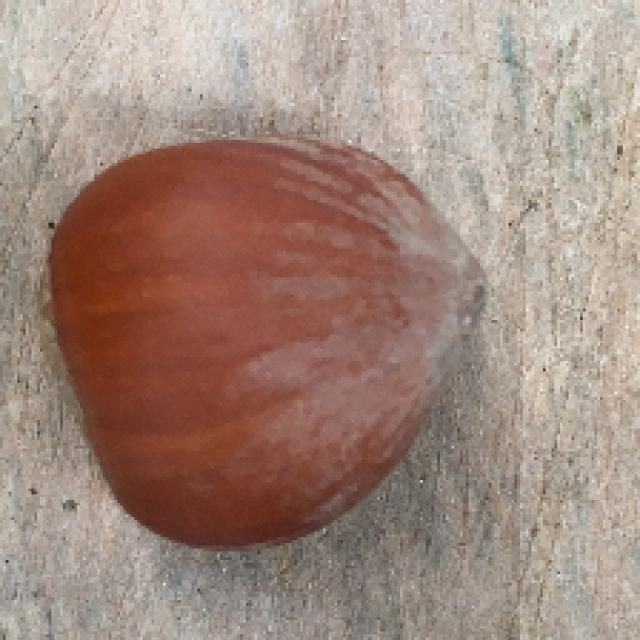hazelnut: (47, 127, 490, 561)
